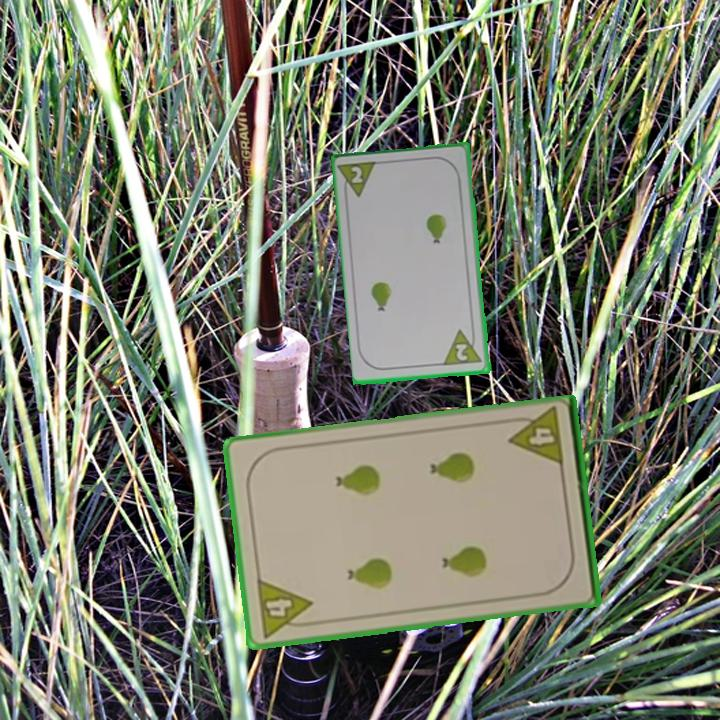2p: (336, 158, 381, 202), (441, 326, 485, 369)
4p: (253, 575, 317, 641), (504, 405, 567, 470)
